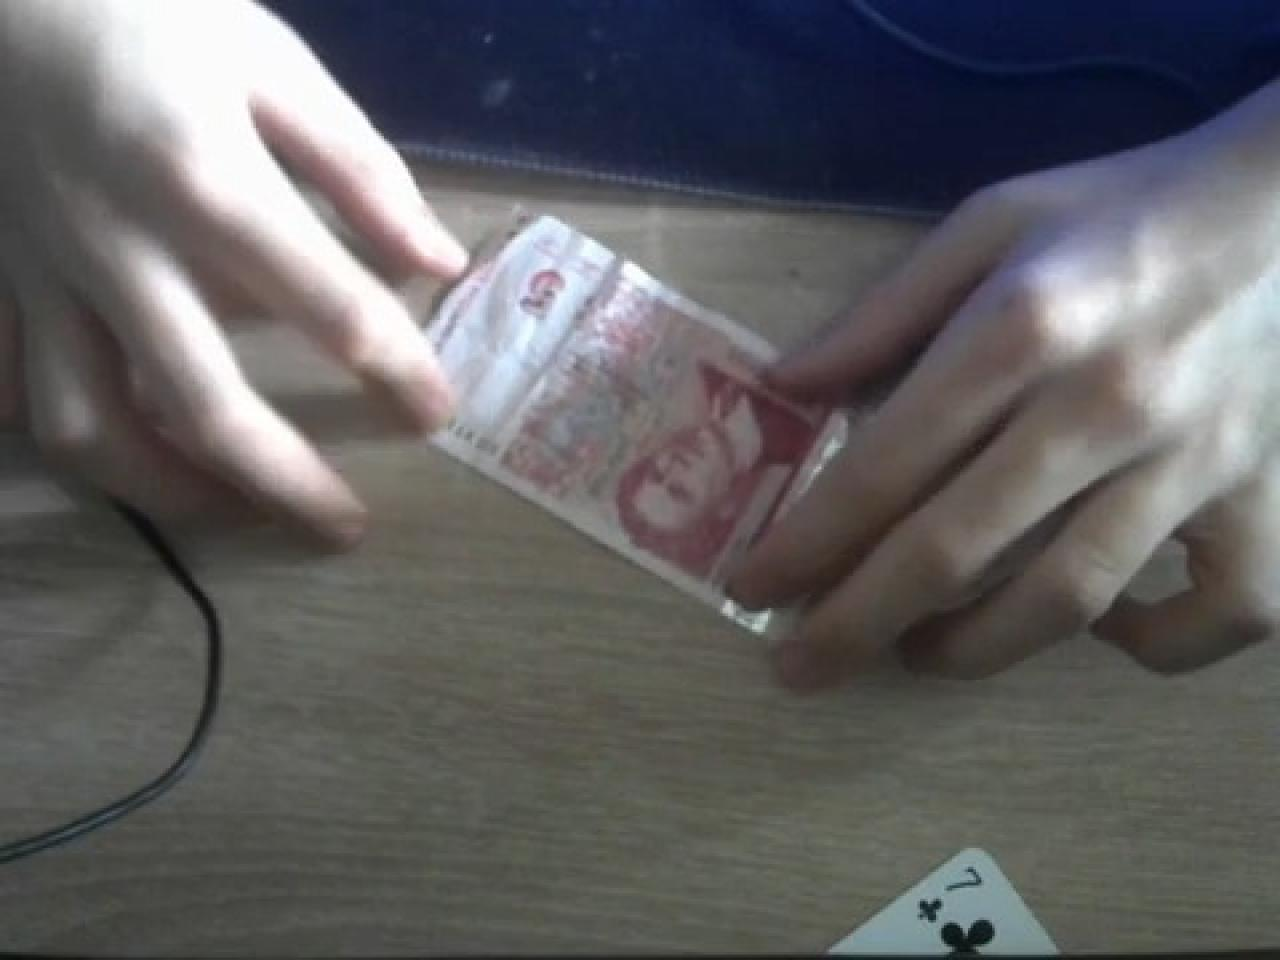5leva: (424, 216, 976, 642)
